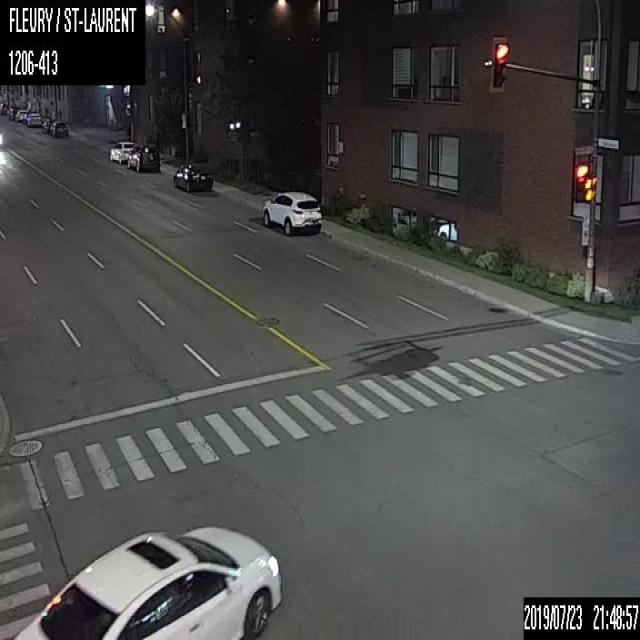vehicle: (14, 522, 281, 638), (261, 188, 322, 233), (172, 162, 212, 190), (126, 145, 159, 171), (108, 140, 136, 163), (50, 120, 68, 137), (26, 112, 40, 126), (15, 108, 28, 122), (41, 118, 52, 134)
